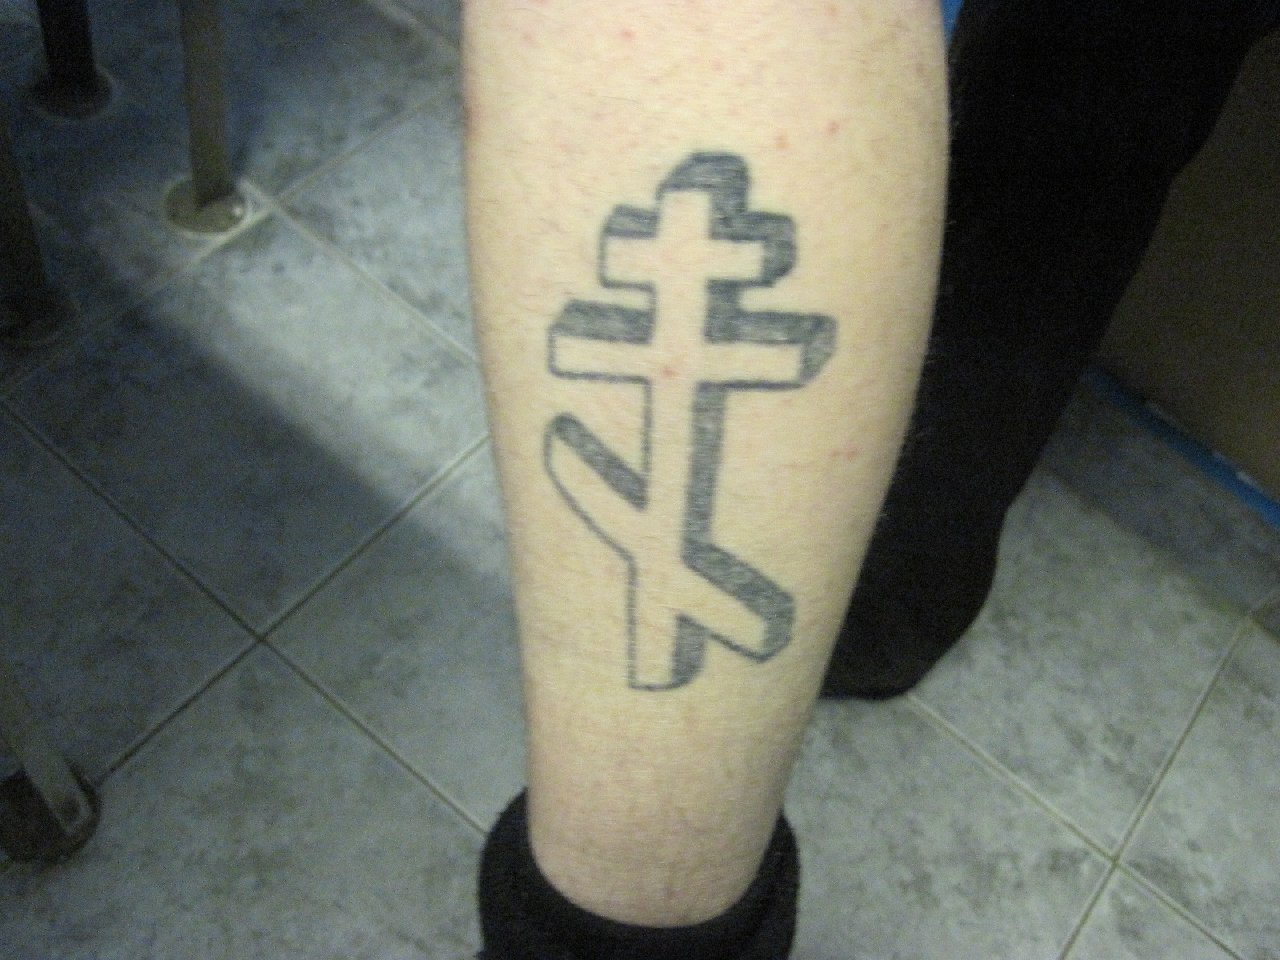tatu9_krest: (513, 125, 851, 706)
